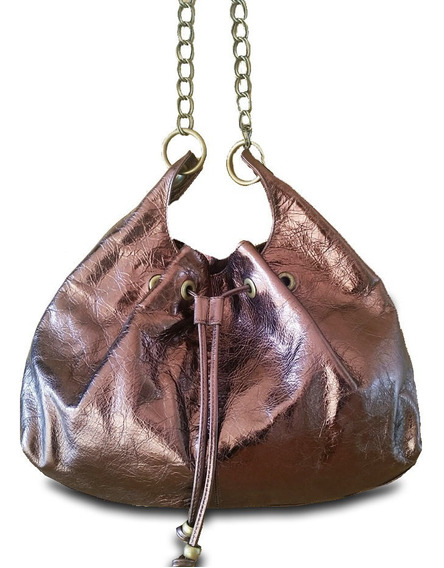cartera: (17, 1, 424, 517)
